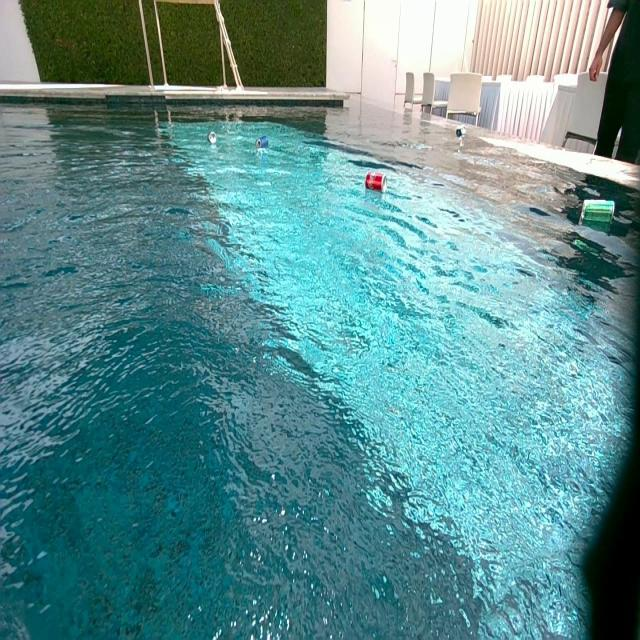Cans: (582, 199, 616, 229), (367, 172, 388, 192), (255, 136, 269, 149), (208, 132, 218, 146), (456, 127, 466, 138)
